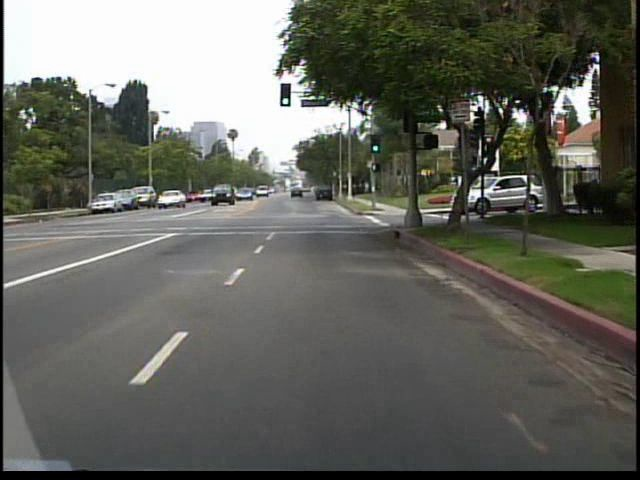person: (363, 177, 371, 196)
